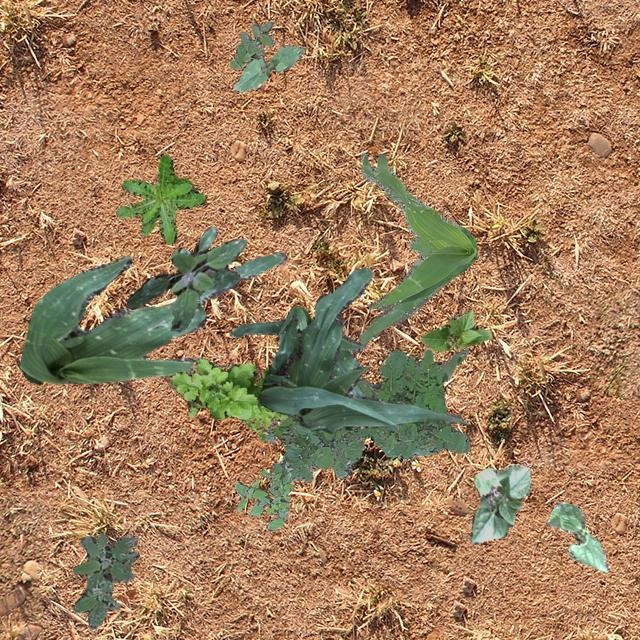crop: (18, 250, 286, 384), (256, 266, 468, 432), (228, 306, 402, 429), (468, 464, 530, 544), (546, 500, 608, 570), (232, 44, 302, 90), (418, 308, 491, 350)
weed: (258, 348, 470, 482), (358, 152, 476, 348), (126, 224, 246, 330), (168, 358, 286, 432), (114, 152, 206, 242), (72, 532, 138, 628), (235, 468, 292, 530), (228, 19, 274, 68)
